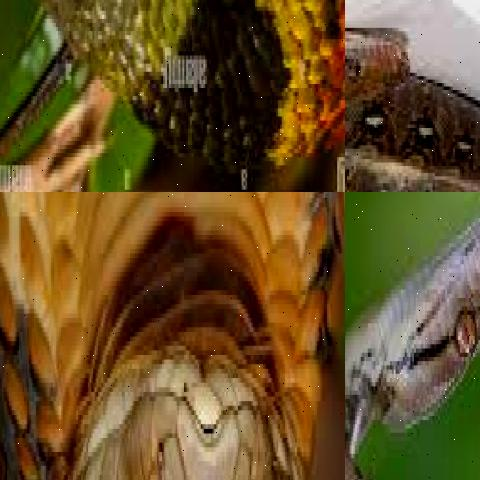snake: (0, 192, 345, 480), (0, 0, 345, 192), (345, 209, 480, 480), (345, 24, 480, 192)
